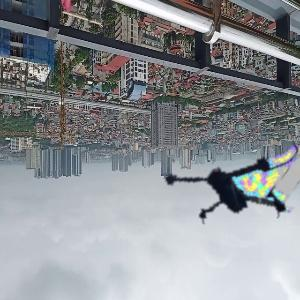drone: (152, 111, 299, 258)
